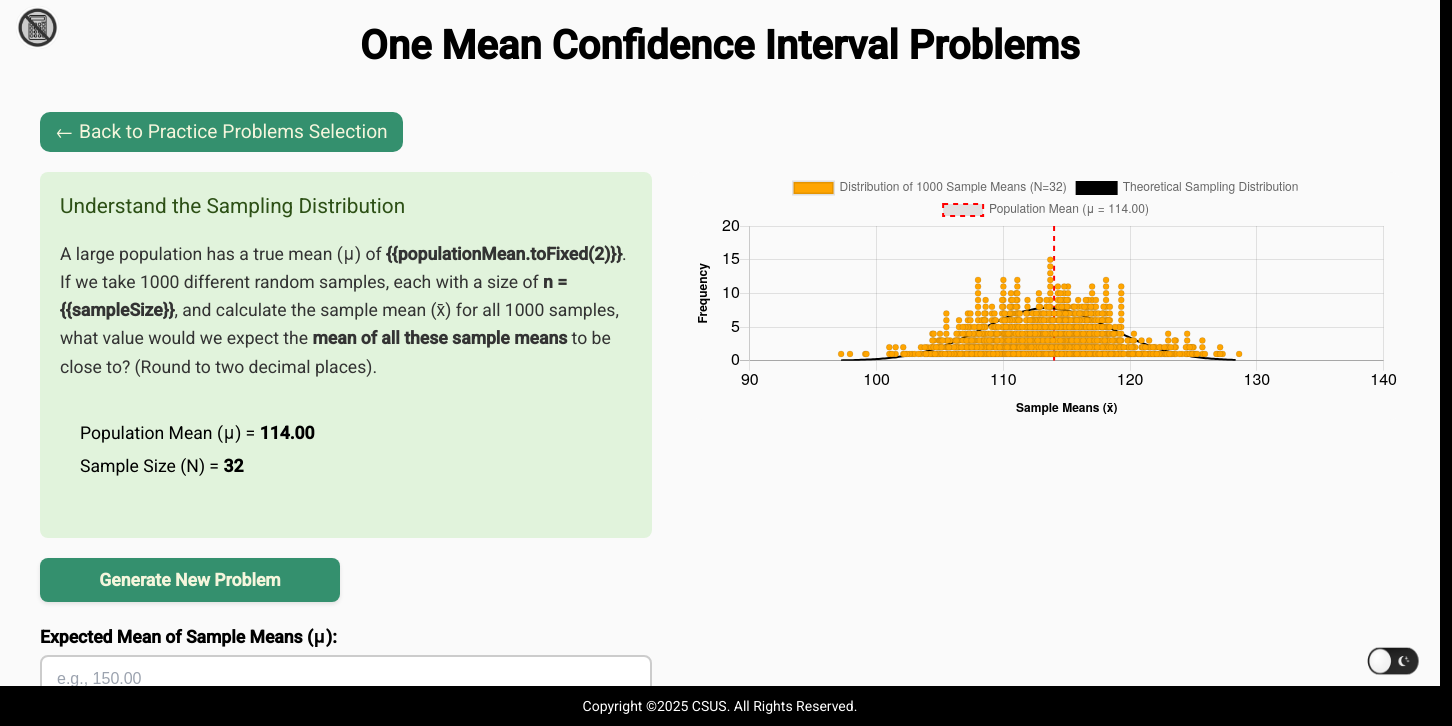
Scenario: OMCI Homework Feature - UI Flow › "Hide Answer" button should hide feedback and reset inputs
This screenshot has width=1452, height=726.
Expected: the footer with class "static-footer" is shown, [0,686,1440,725]
# Submit an answer to show the feedback
Step 1. Type "123" into the field with class "textbox" → (346, 679), box [40,655,652,703]
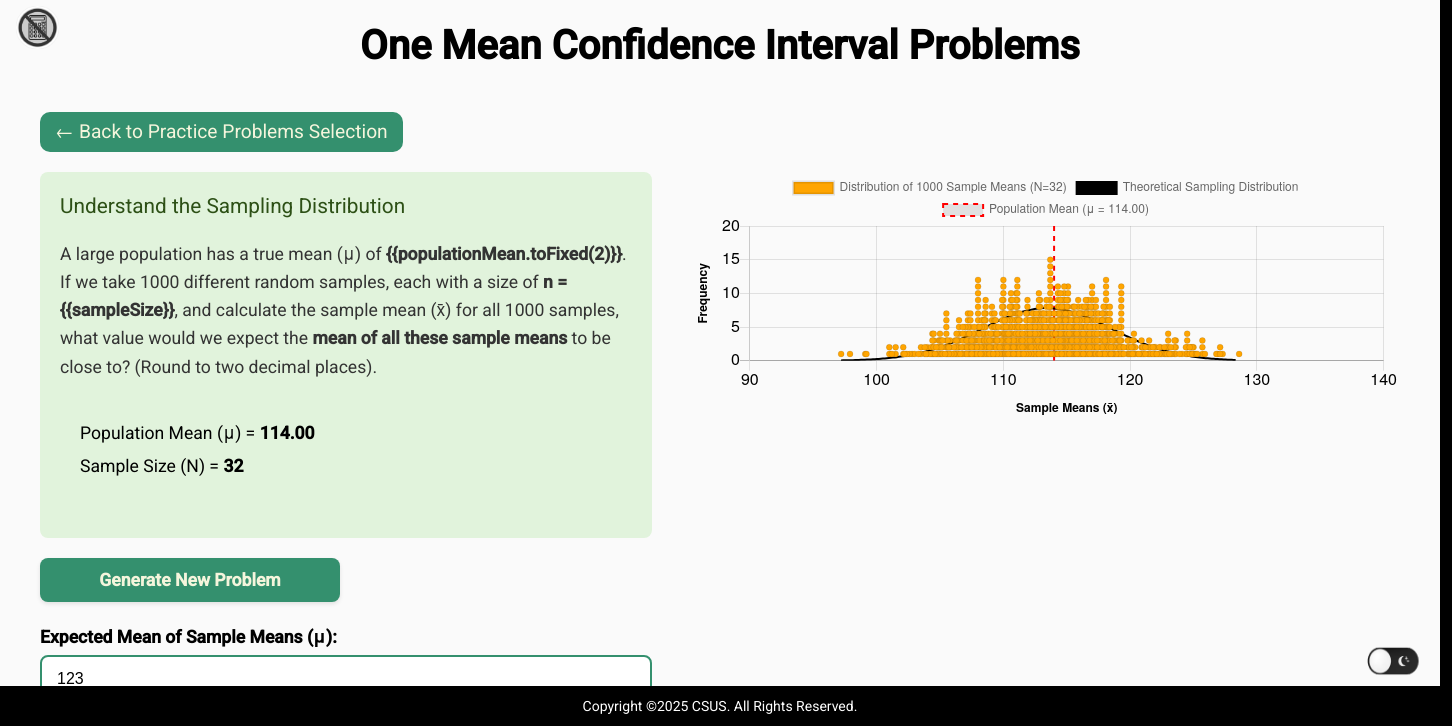
Step 2. Scroll
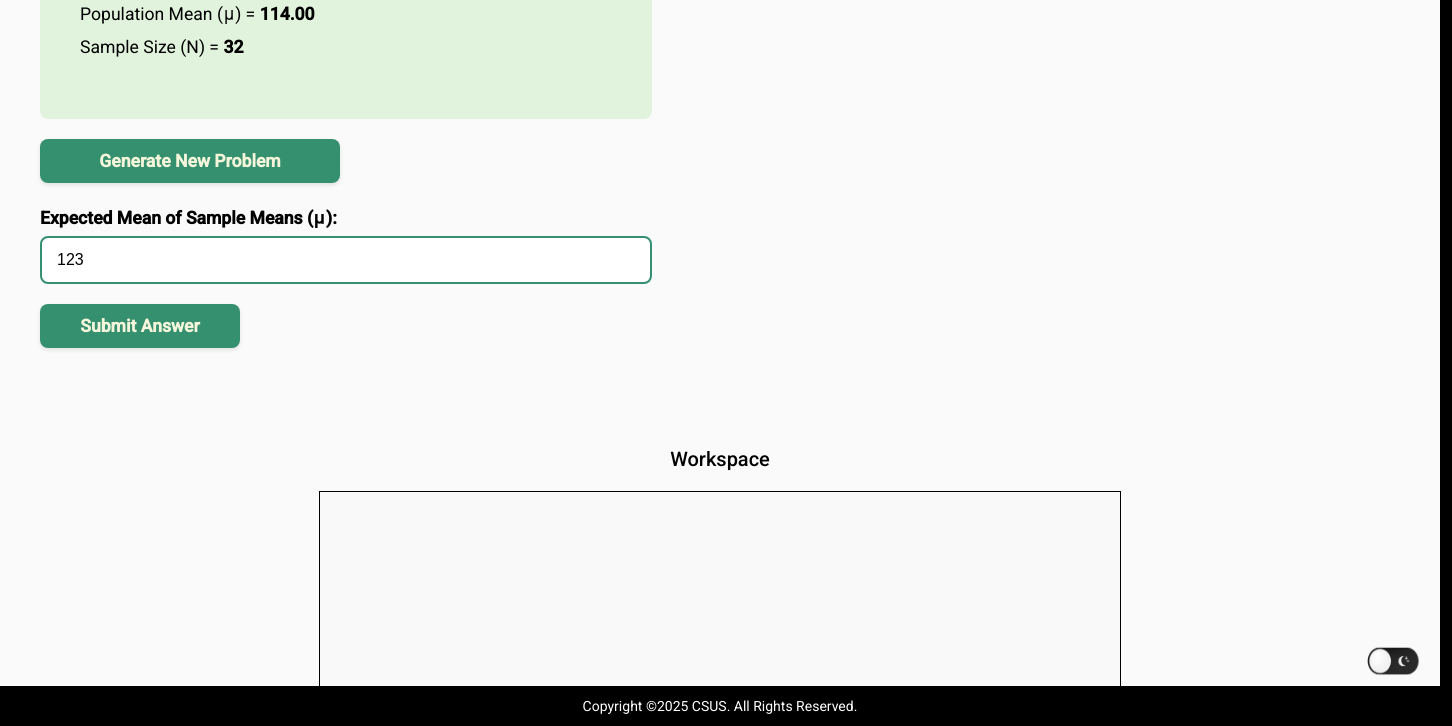
Step 3. Click the button with class "submit-button" → (140, 326), box [40,304,240,348]
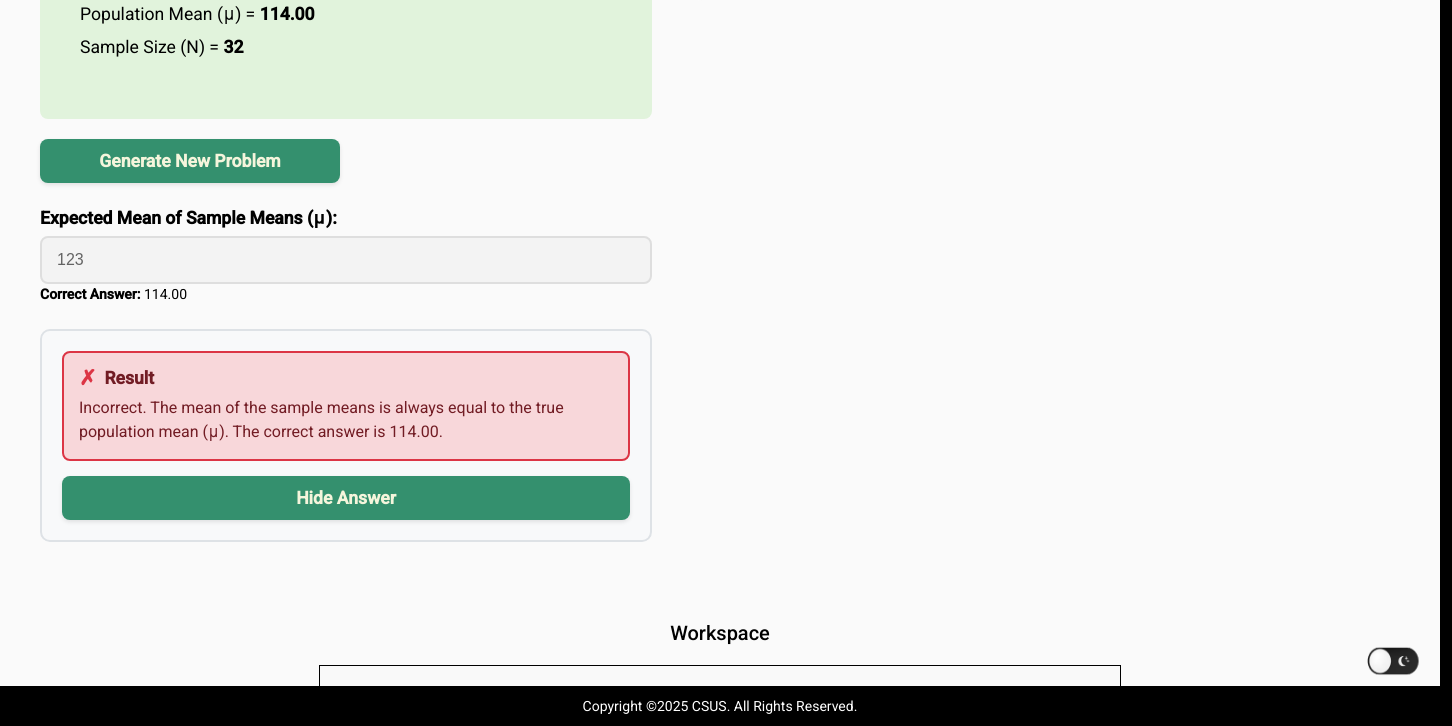
Result: the element with class "feedback-box" is shown at [62,351,630,461]
# Click "Hide Answer"
Step 4. Click the button with class "try-again-button" → (346, 498), box [62,476,630,520]
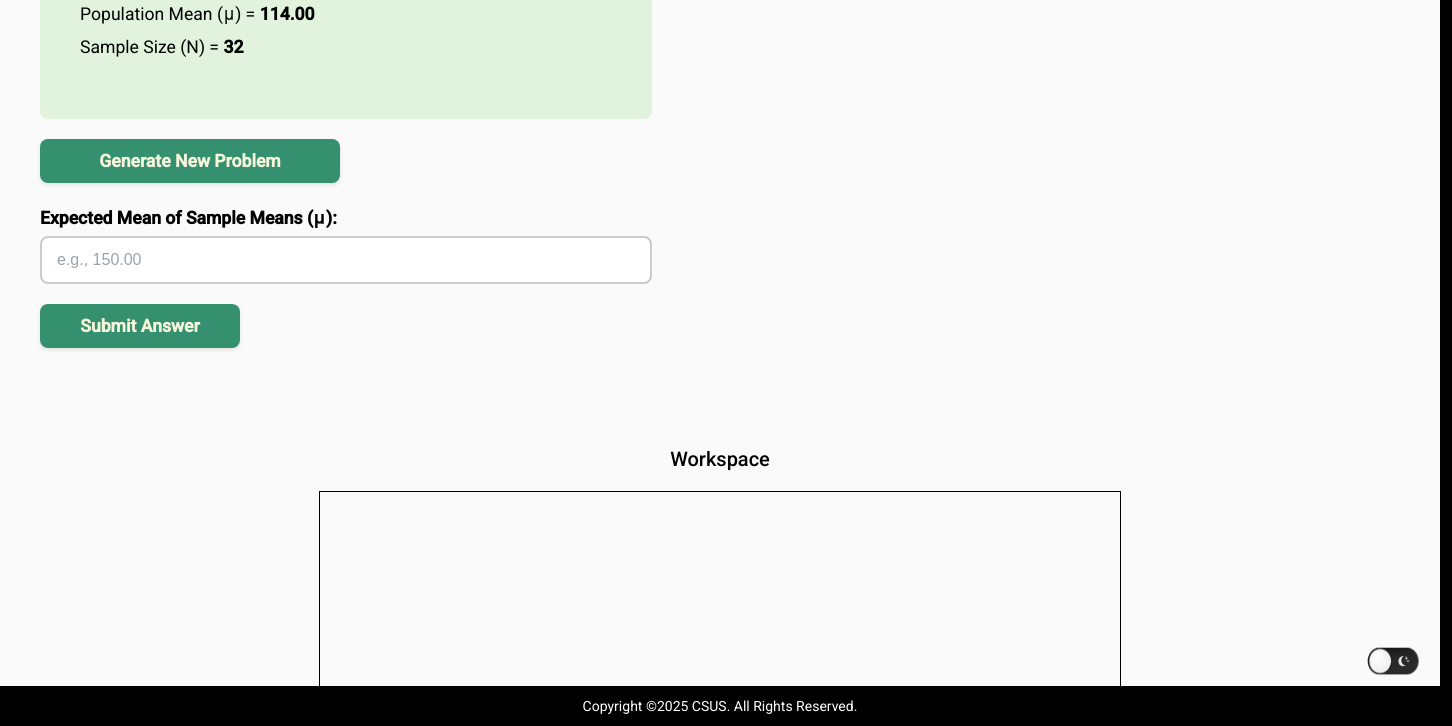
Result: the element with class "feedback-box" is gone
Result: the button with class "submit-button" is shown at [40,304,240,348]
